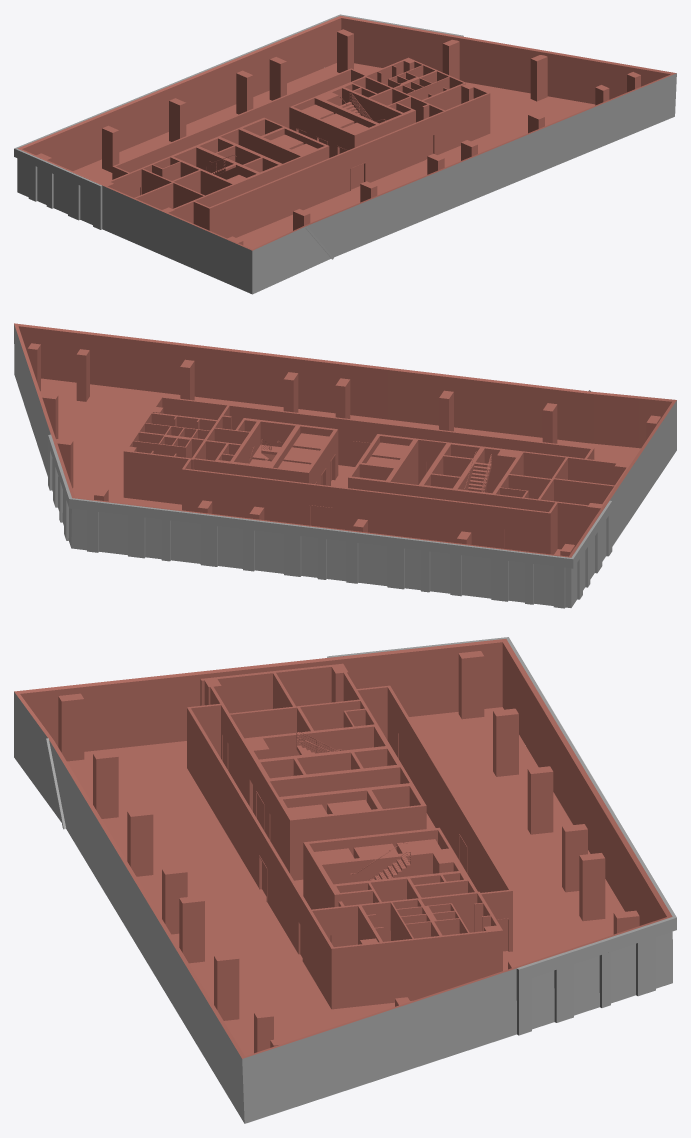
Rendered from JLL_Ruya_Region3DModels_Riyadh_Derived_HeroBuildings_Building 305_Floors_KSA_04_04105_B29_Floor_T1_15.fbx.
3 views of the same model, one above another, from view 1: azimuth 30°, elevation 25°; view 2: azimuth 150°, elevation 25°; view 3: azimuth 270°, elevation 25° (orthographic). The views are drawn at different scales.
Parts seen in each view (by area): view 1: KSA_04_04105_B29_Floor_T1_15; view 2: KSA_04_04105_B29_Floor_T1_15; view 3: KSA_04_04105_B29_Floor_T1_15.
Boxes of the visible parts, x1,y1,x2,y2 form: KSA_04_04105_B29_Floor_T1_15: (14,14,676,294); KSA_04_04105_B29_Floor_T1_15: (14,323,676,608); KSA_04_04105_B29_Floor_T1_15: (14,637,676,1123).
Size of what is drawn, in the model's own units: 6096 by 510 by 4048.
